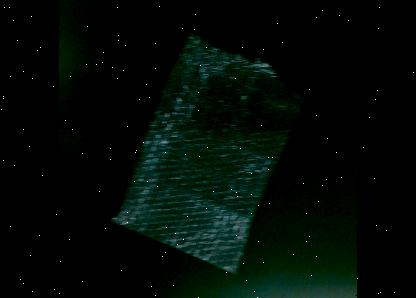Others: (106, 30, 324, 276)
